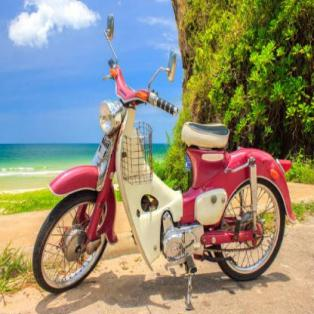Motocicleta: (26, 8, 304, 313)
